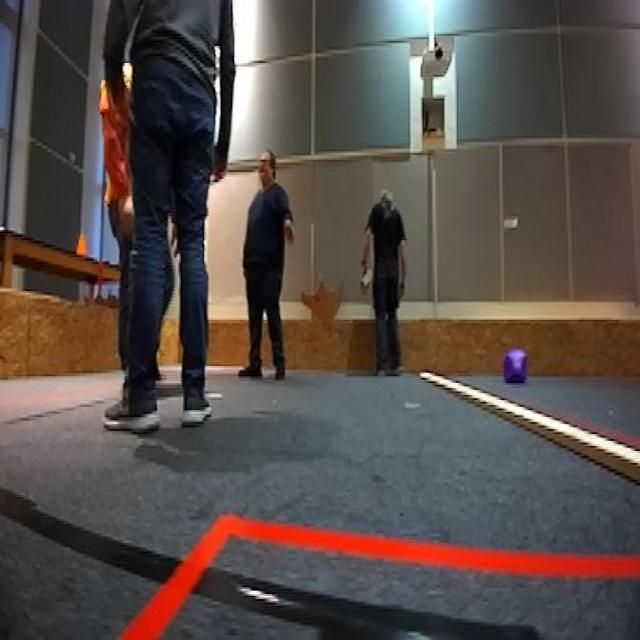frc_cube: (502, 351, 530, 386)
